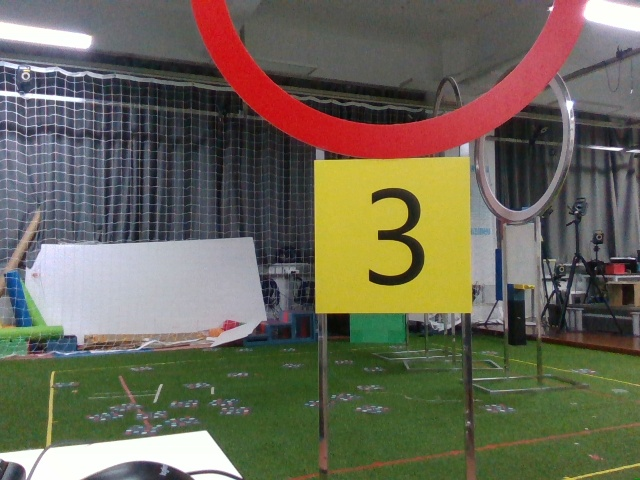target: (318, 164, 466, 306)
